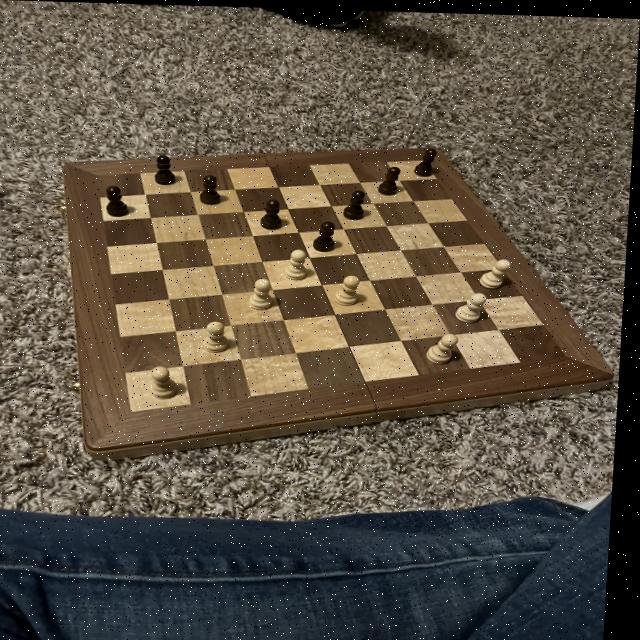black-knight: (100, 181, 139, 221), (196, 170, 230, 208), (259, 197, 293, 232), (341, 185, 373, 220), (376, 162, 409, 194), (414, 142, 442, 177), (314, 219, 341, 252), (155, 152, 181, 186)
white-knight: (150, 361, 188, 404), (203, 315, 239, 356), (283, 243, 319, 282), (428, 329, 468, 364), (480, 254, 519, 289), (456, 287, 492, 323), (249, 274, 282, 310), (336, 271, 370, 305)
